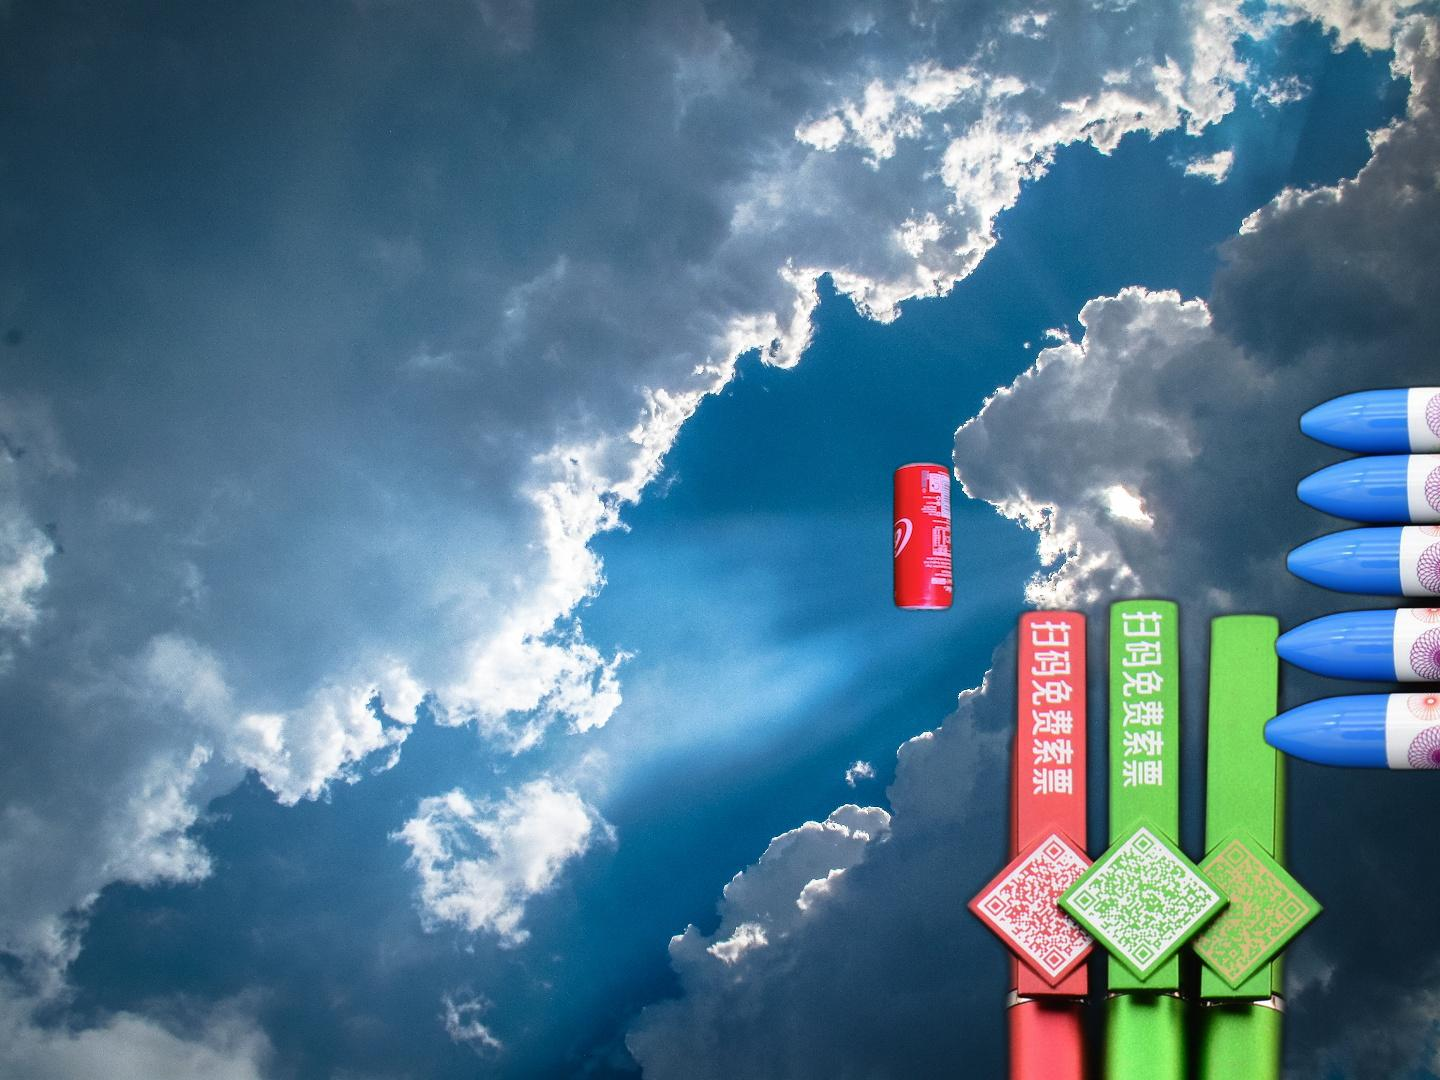metal-cans: (889, 456, 958, 617)
penholder: (948, 587, 1340, 1080), (1256, 361, 1440, 777)
